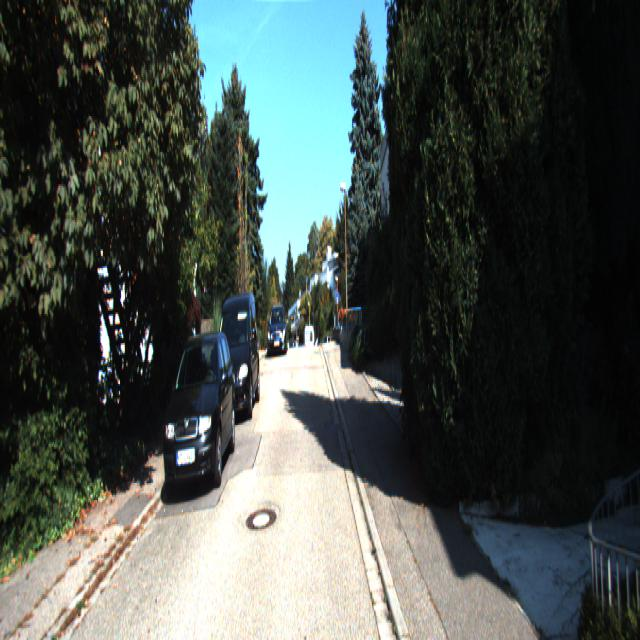Car: (162, 330, 236, 499), (212, 288, 261, 424), (267, 304, 288, 358)
